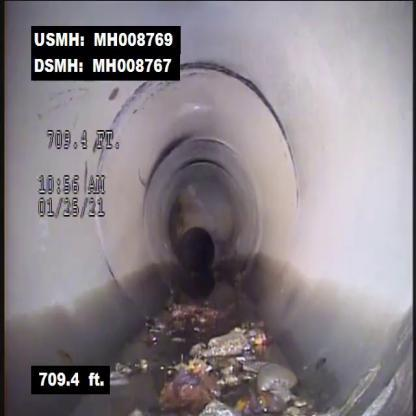Debris: (155, 321, 314, 415)
